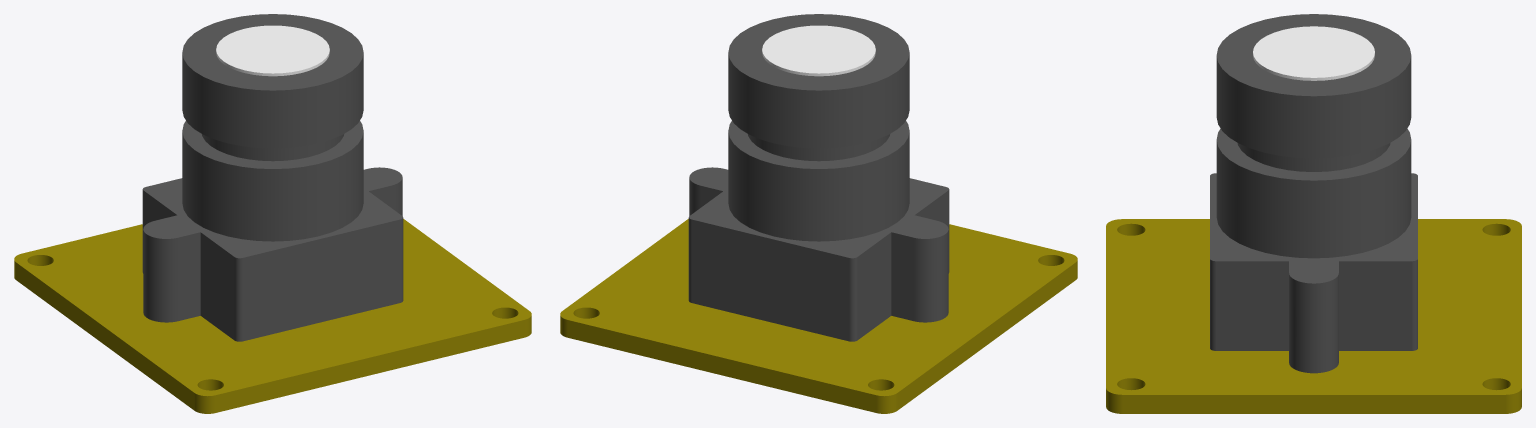
File: camera.dae
3 views of the same model, side by side, from view 1: azimuth 30°, elevation 25°; view 2: azimuth 150°, elevation 25°; view 3: azimuth 270°, elevation 25° (orthographic). The views are drawn at different scales.
Visible parts, largest first — view 1: camera-1, camera-2, camera-3; view 2: camera-1, camera-2, camera-3; view 3: camera-1, camera-2, camera-3.
Part boxes in pixels (x1=…): camera-1: x1=142, y1=14, x2=403, y2=341; camera-2: x1=14, y1=219, x2=531, y2=413; camera-3: x1=216, y1=25, x2=329, y2=76; camera-1: x1=688, y1=14, x2=949, y2=341; camera-2: x1=560, y1=219, x2=1077, y2=413; camera-3: x1=762, y1=25, x2=875, y2=76; camera-1: x1=1210, y1=14, x2=1417, y2=373; camera-2: x1=1106, y1=219, x2=1521, y2=413; camera-3: x1=1253, y1=26, x2=1374, y2=80.
Bounding box in the file's own units: 32 × 32 × 23.27.
